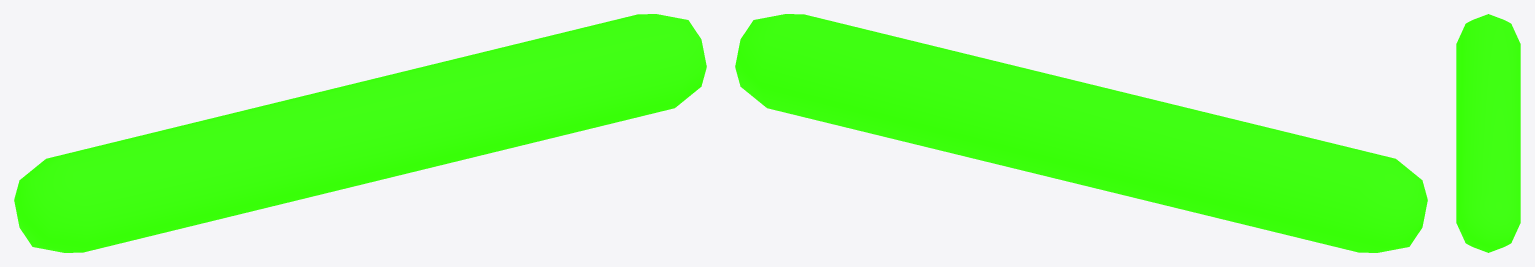
Rendered from GreenShortLaser.fbx.
The picture shows the model from 3 angles, left to right: view 1: azimuth 30°, elevation 25°; view 2: azimuth 150°, elevation 25°; view 3: azimuth 270°, elevation 25°; orthographic projection. The views are drawn at different scales.
Visible parts, largest first — view 1: GreenShortLaser; view 2: GreenShortLaser; view 3: GreenShortLaser.
Part boxes in pixels (x1=…): GreenShortLaser: x1=14, y1=14, x2=706, y2=252; GreenShortLaser: x1=735, y1=14, x2=1427, y2=252; GreenShortLaser: x1=1456, y1=14, x2=1520, y2=252.
Bounding box in the file's own units: 0.4004 × 0.053 × 0.053.
